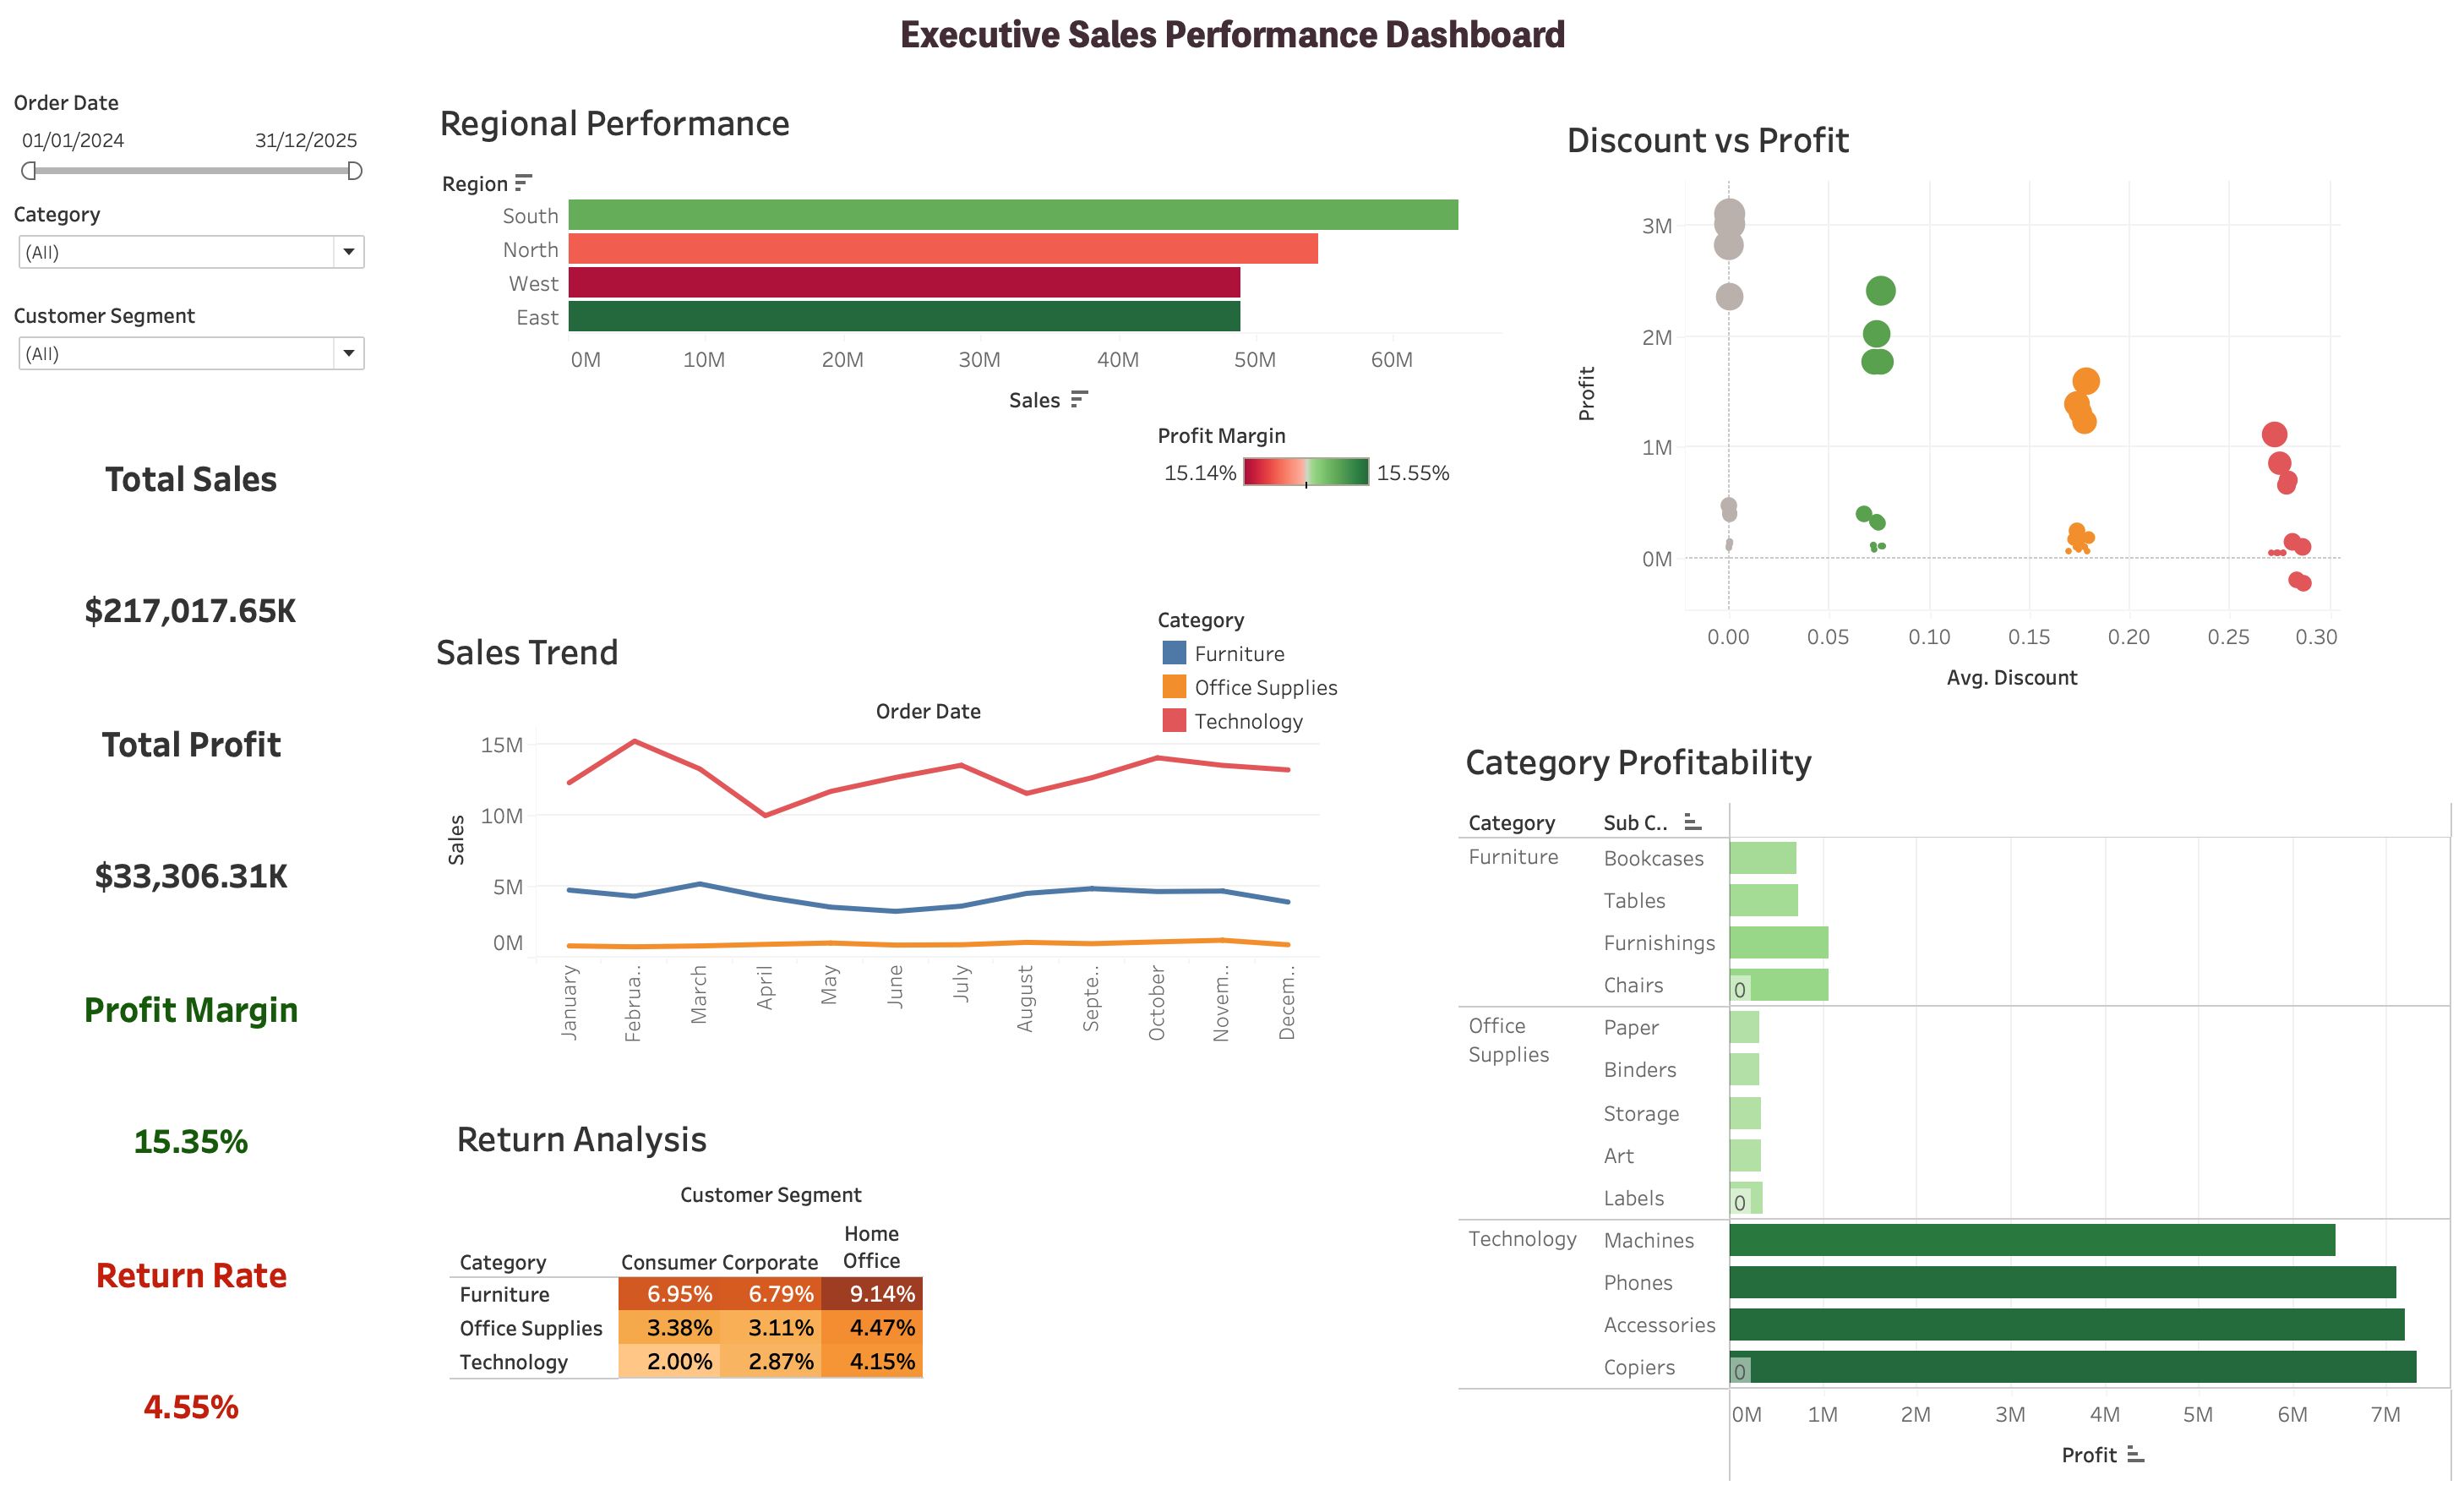

The dashboard page shown, as its layout file describes it:
{"tool":"tableau","page":{"name":"Executive Dashboard ","canvas":[1000,1000],"units":"permille","ordinal":0},"visuals":[{"type":"title","box":[5.4,9,989.1,36]},{"type":"filter","title":"Sales trend view","param":"[federated.0es24wj1n8u6ep0zlp9on0qtiqck].[none:order_date:qk]","box":[6.3,58.2,148.8,74.2]},{"type":"worksheet","title":"Regional performance view","mark":"Bar","rows":["region"],"cols":["sales"],"box":[177.7,64.7,430.3,274.3]},{"type":"worksheet","title":"Discount vs profit view","mark":"Circle","rows":["profit"],"cols":["discount"],"box":[631.5,76.3,314.2,395.9]},{"type":"filter","title":"Category profitability view","param":"[federated.0es24wj1n8u6ep0zlp9on0qtiqck].[none:category:nk]","box":[6.3,132.4,148.8,67.5]},{"type":"filter","title":"Return analysis view","param":"[federated.0es24wj1n8u6ep0zlp9on0qtiqck].[none:customer_segment:nk]","box":[6.3,199.9,148.8,97.9]},{"type":"legend","title":"Regional performance view","param":"[federated.0es24wj1n8u6ep0zlp9on0qtiqck].[usr:Calculation_6818774942461952:qk]","box":[469.3,284.6,121.1,68.6]},{"type":"worksheet","title":"Total sales","mark":"Automatic","box":[6.3,297.8,148.8,176.5]},{"type":"legend","title":"Sales trend view","param":"[federated.0es24wj1n8u6ep0zlp9on0qtiqck].[none:category:nk]","box":[469.3,407.5,96.1,103.5]},{"type":"worksheet","title":"Sales trend view","mark":"Line","rows":["sales"],"cols":["order_date"],"box":[176.4,417.9,358.3,282]},{"type":"worksheet","title":"Total profit","mark":"Automatic","box":[6.3,474.3,148.8,176.5]},{"type":"worksheet","title":"Category profitability view","mark":"Bar","rows":["category","sub_category"],"cols":["profit"],"box":[590.6,490.3,400,500.7]},{"type":"worksheet","title":"Profit margin","mark":"Automatic","box":[6.3,650.8,148.8,176.5]},{"type":"worksheet","title":"Return analysis view","mark":"Square","rows":["category"],"cols":["customer_segment"],"box":[184.2,741.3,328.4,236.7]},{"type":"worksheet","title":"Return rate","mark":"Automatic","box":[6.3,827.4,148.8,176.5]}]}

Visuals, with their boxes on the dashboard's canvas, which has no fixed pixel size, in thousandths of its width and height (x1, y1, x2, y2). These are canvas units, not pixel positions in the 2464x1491 screenshot, which may show the page scaled, cropped or inside an application window:
title: l=5, t=9, r=994, b=45
"Sales trend view" filter: l=6, t=58, r=155, b=132
"Regional performance view" worksheet (Bar marks): l=178, t=65, r=608, b=339
"Discount vs profit view" worksheet (Circle marks): l=632, t=76, r=946, b=472
"Category profitability view" filter: l=6, t=132, r=155, b=200
"Return analysis view" filter: l=6, t=200, r=155, b=298
"Regional performance view" legend: l=469, t=285, r=590, b=353
"Total sales" worksheet: l=6, t=298, r=155, b=474
"Sales trend view" legend: l=469, t=408, r=565, b=511
"Sales trend view" worksheet (Line marks): l=176, t=418, r=535, b=700
"Total profit" worksheet: l=6, t=474, r=155, b=651
"Category profitability view" worksheet (Bar marks): l=591, t=490, r=991, b=991
"Profit margin" worksheet: l=6, t=651, r=155, b=827
"Return analysis view" worksheet (Square marks): l=184, t=741, r=513, b=978
"Return rate" worksheet: l=6, t=827, r=155, b=1004
